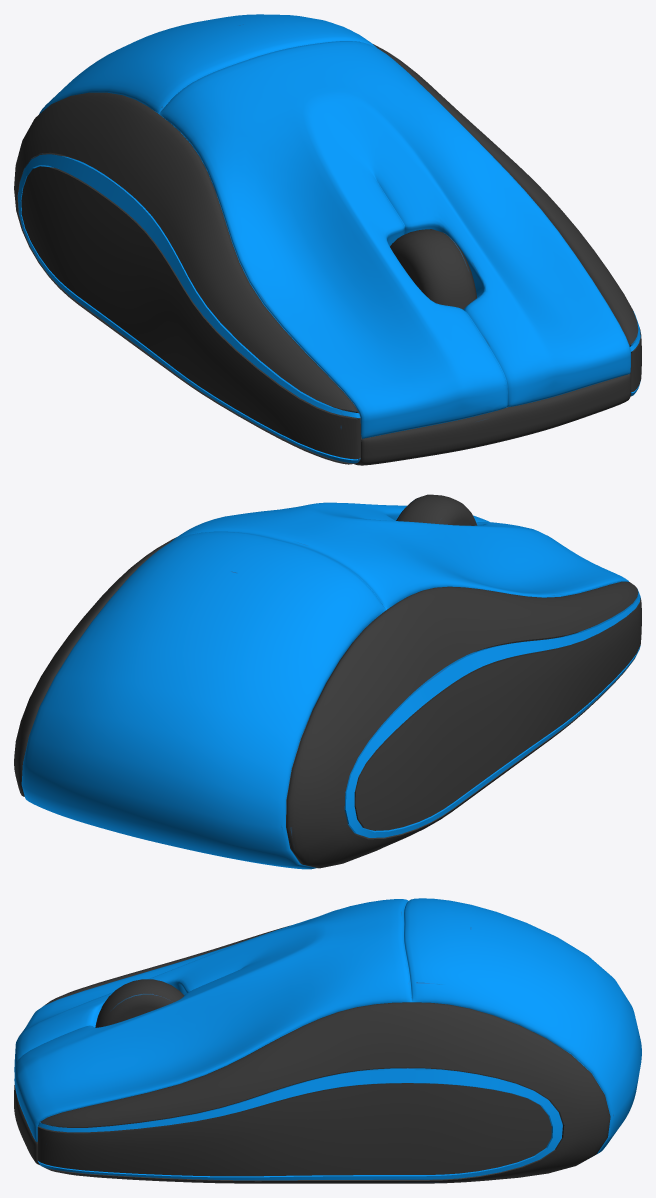
The model's file is device.fbx.
The picture shows the model from 3 angles, top to bottom: view 1: azimuth 30°, elevation 25°; view 2: azimuth 150°, elevation 25°; view 3: azimuth 270°, elevation 25°; orthographic projection. The views are drawn at different scales.
Visible parts, largest first — view 1: 1; view 2: 1; view 3: 1.
Boxes of the visible parts, x1,y1,x2,y2 form: 1: (14,14,641,465); 1: (14,494,641,869); 1: (14,898,641,1183).
Size of the model in its own units: 5.94 by 3.53 by 10.18.
Materials: 1 (1 with a texture image).
